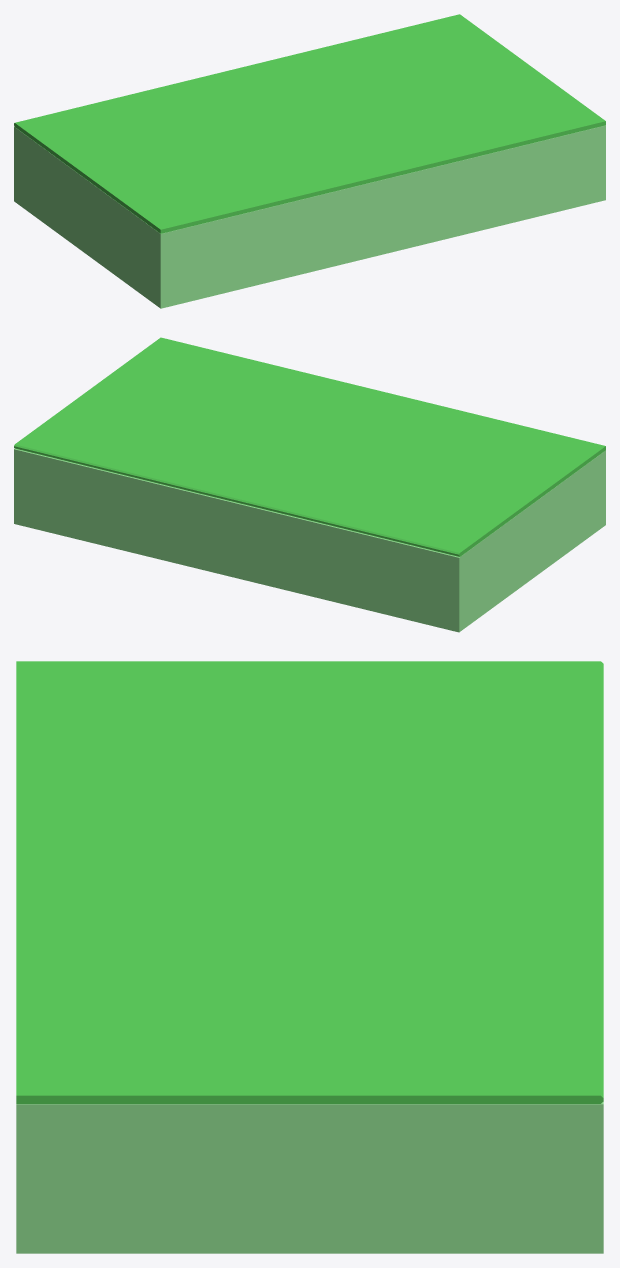
3 renders of one model, top to bottom at view 1: azimuth 30°, elevation 25°; view 2: azimuth 150°, elevation 25°; view 3: azimuth 270°, elevation 25°, orthographic. The views are drawn at different scales.
Parts seen in each view (by area): view 1: Box_004_1_, Box_004; view 2: Box_004_1_, Box_004; view 3: Box_004_1_, Box_004.
Part boxes in pixels (x1=…): Box_004_1_: x1=14, y1=14, x2=605, y2=233; Box_004: x1=14, y1=125, x2=605, y2=308; Box_004_1_: x1=14, y1=337, x2=605, y2=556; Box_004: x1=14, y1=448, x2=605, y2=632; Box_004_1_: x1=16, y1=661, x2=603, y2=1103; Box_004: x1=16, y1=1102, x2=603, y2=1253.
Bounding box in the file's own units: 73.4 × 12.45 × 41.93.
